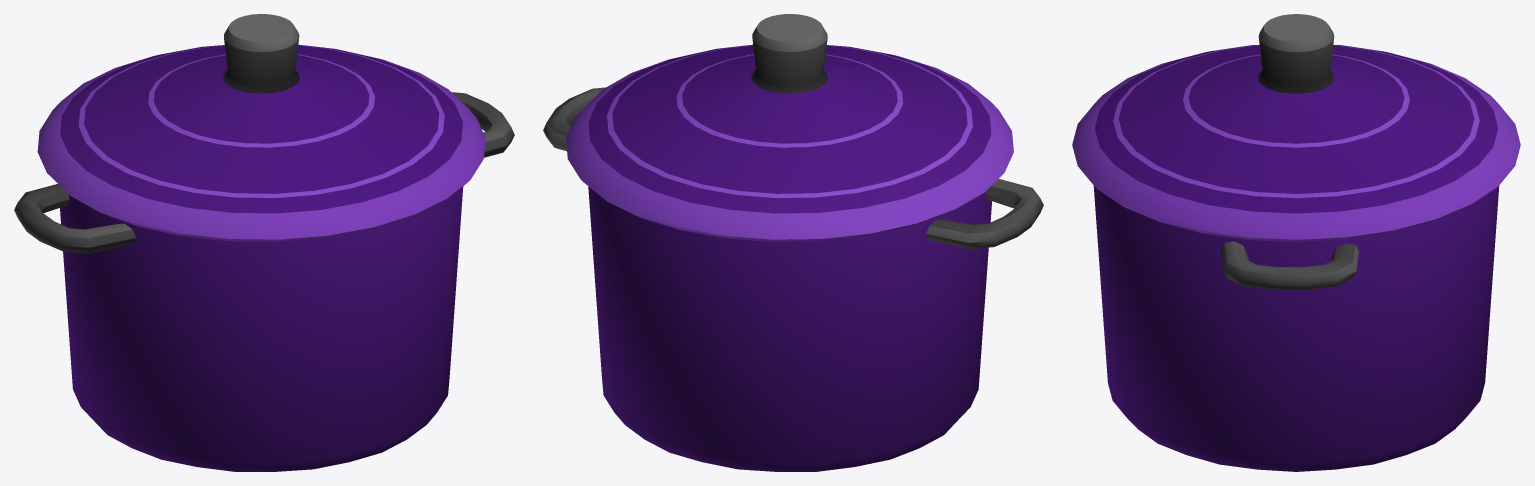
The model's file is Pan_4.fbx.
3 renders of one model, left to right at view 1: azimuth 30°, elevation 25°; view 2: azimuth 150°, elevation 25°; view 3: azimuth 270°, elevation 25°, orthographic.
Visible parts, largest first — view 1: Pan_4, Pan_4 Top; view 2: Pan_4, Pan_4 Top; view 3: Pan_4, Pan_4 Top.
Boxes of the visible parts, x1=… form: Pan_4: x1=14, y1=92, x2=514, y2=471; Pan_4 Top: x1=37, y1=14, x2=485, y2=241; Pan_4: x1=543, y1=87, x2=1043, y2=471; Pan_4 Top: x1=566, y1=14, x2=1013, y2=241; Pan_4: x1=1093, y1=185, x2=1499, y2=471; Pan_4 Top: x1=1072, y1=14, x2=1520, y2=242.
Bounding box in the file's own units: 0.3038 × 0.2294 × 0.2526.
Materials: 1 (1 with a texture image).
